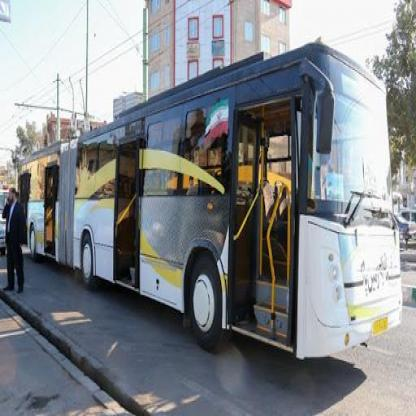Bus: (19, 68, 404, 370)
